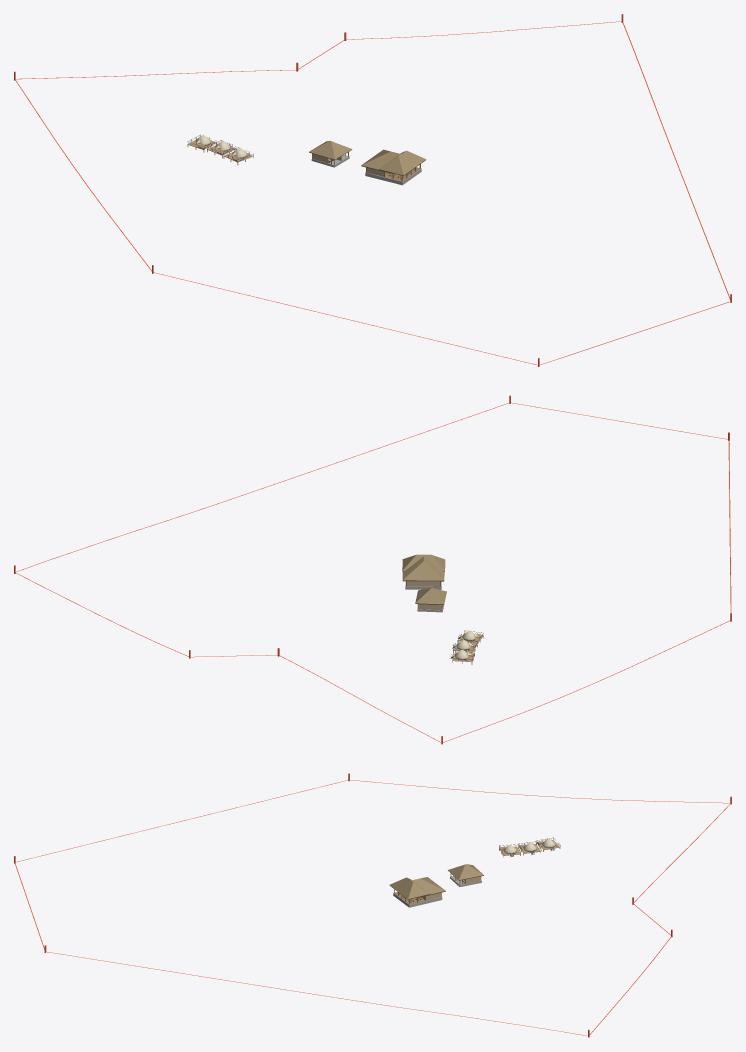
The model's file is buildings.glb.
3 renders of one model, top to bottom at view 1: azimuth 30°, elevation 25°; view 2: azimuth 150°, elevation 25°; view 3: azimuth 270°, elevation 25°, orthographic. The views are drawn at different scales.
Visible parts, largest first — view 1: RanhGioi, NhaChinh_MaiTruoc; view 2: RanhGioi, NhaChinh_MaiSau; view 3: RanhGioi, NhaChinh_MaiTruoc.
Part boxes in pixels (x1,y1,x2,y2): RanhGioi: [15, 21, 730, 365]; NhaChinh_MaiTruoc: [379, 150, 426, 175]; RanhGioi: [15, 402, 731, 742]; NhaChinh_MaiSau: [402, 556, 444, 581]; RanhGioi: [14, 780, 730, 1035]; NhaChinh_MaiTruoc: [389, 877, 429, 899].
Size of the model in its own units: 233 by 9.23 by 273.
